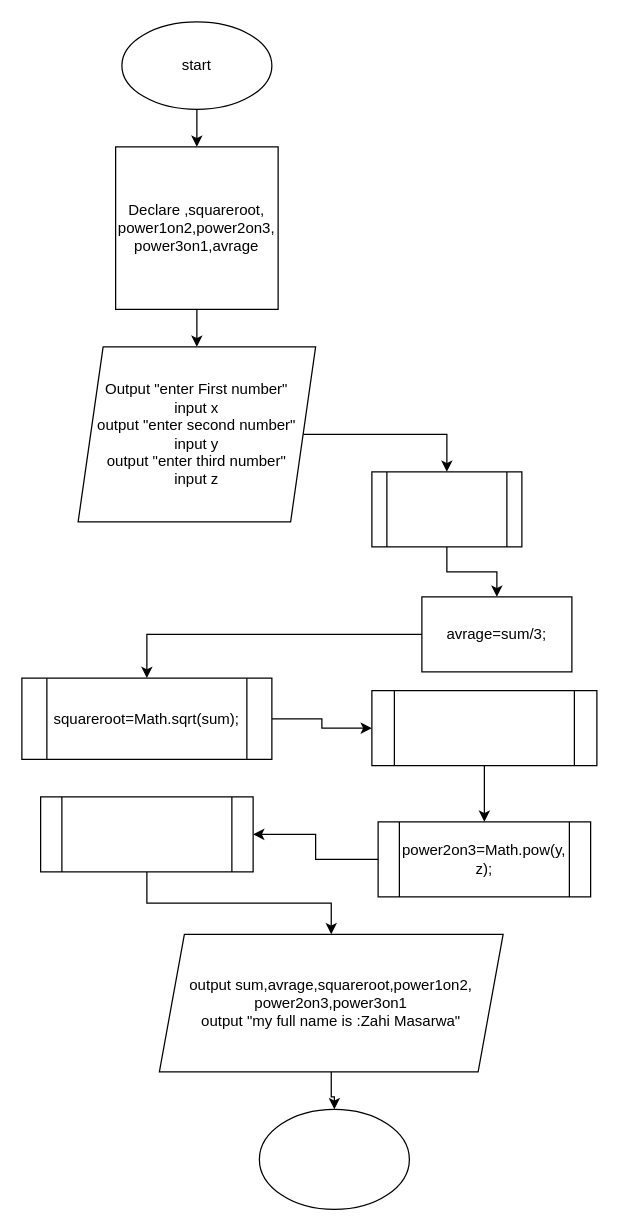
Some shapes in this 619 by 1231 pixel diagram are drawn without their labels. The centre of each missing label's shape, as x and y in pixels:
end: the point at 333,1158
power1on2=Math.pow(x, y);: the point at 484,727
power3on1=Math.pow(z, x);: the point at 146,834
sum=x+y+z: the point at 446,509
